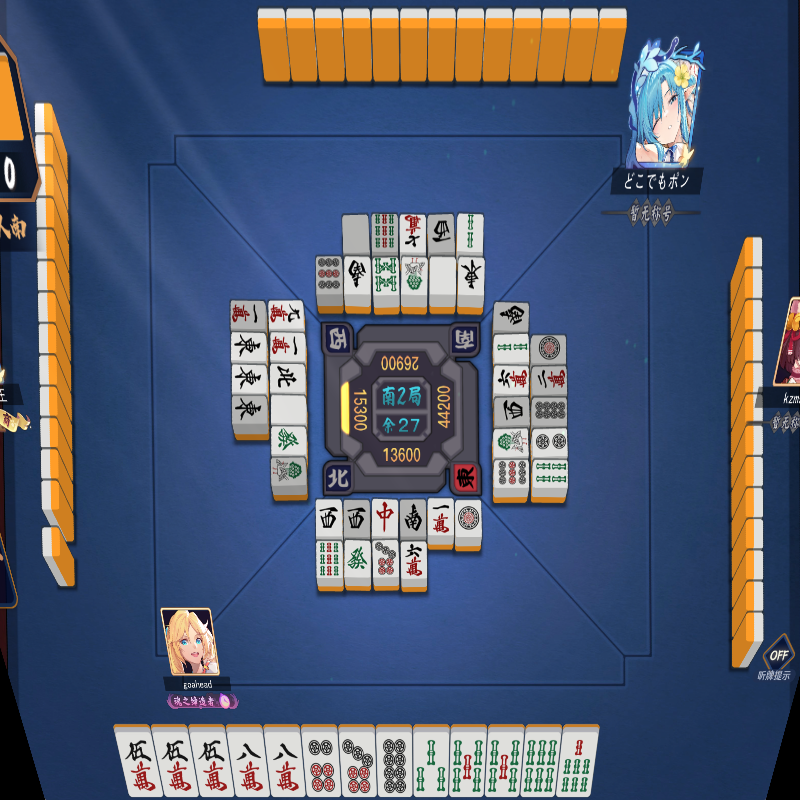1m: (229, 298, 268, 333), (427, 498, 454, 544)
1p: (454, 499, 482, 547), (530, 332, 567, 365)
1s: (399, 256, 429, 306), (268, 331, 308, 365), (490, 427, 530, 459), (269, 456, 308, 486)
1z: (457, 255, 485, 305), (229, 331, 268, 364), (230, 363, 269, 396), (230, 395, 269, 428)
2m: (529, 365, 568, 396)
2p: (529, 427, 569, 459)
2s: (455, 212, 485, 256), (491, 333, 530, 365)
2z: (342, 254, 371, 306), (398, 498, 427, 541), (491, 301, 529, 333)
3m: (410, 725, 451, 799)
3z: (426, 213, 456, 255), (491, 396, 530, 428), (315, 498, 343, 540), (343, 498, 371, 540)
4s: (531, 459, 569, 497)
4z: (269, 364, 308, 397)
5m: (116, 723, 163, 798), (190, 724, 234, 798), (158, 724, 197, 799)
5s: (449, 724, 486, 799), (486, 724, 522, 798)
5z: (427, 255, 457, 306), (269, 395, 309, 427), (341, 214, 371, 254)
6m: (399, 541, 428, 587), (491, 365, 530, 396)
6p: (302, 725, 342, 798)
6s: (521, 724, 559, 798)
6z: (343, 539, 372, 586), (269, 425, 308, 457)
7m: (398, 213, 427, 256)
7p: (339, 724, 377, 797), (372, 540, 401, 585)
7s: (558, 725, 598, 798)
7z: (370, 498, 400, 539)
8m: (265, 725, 304, 799), (229, 725, 269, 797)
8p: (374, 725, 415, 798), (528, 396, 569, 426)
8s: (372, 256, 400, 305)
9m: (267, 299, 307, 333)
9p: (490, 458, 531, 496), (316, 255, 343, 306)
9s: (315, 540, 344, 584), (370, 214, 399, 254)
